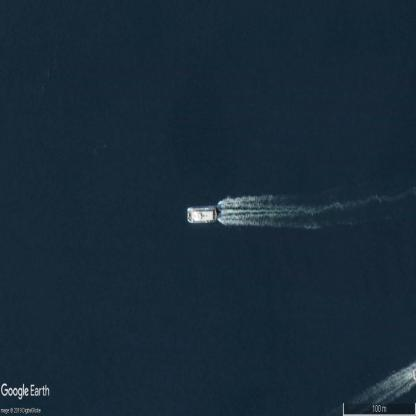ship: (188, 207, 217, 224)
